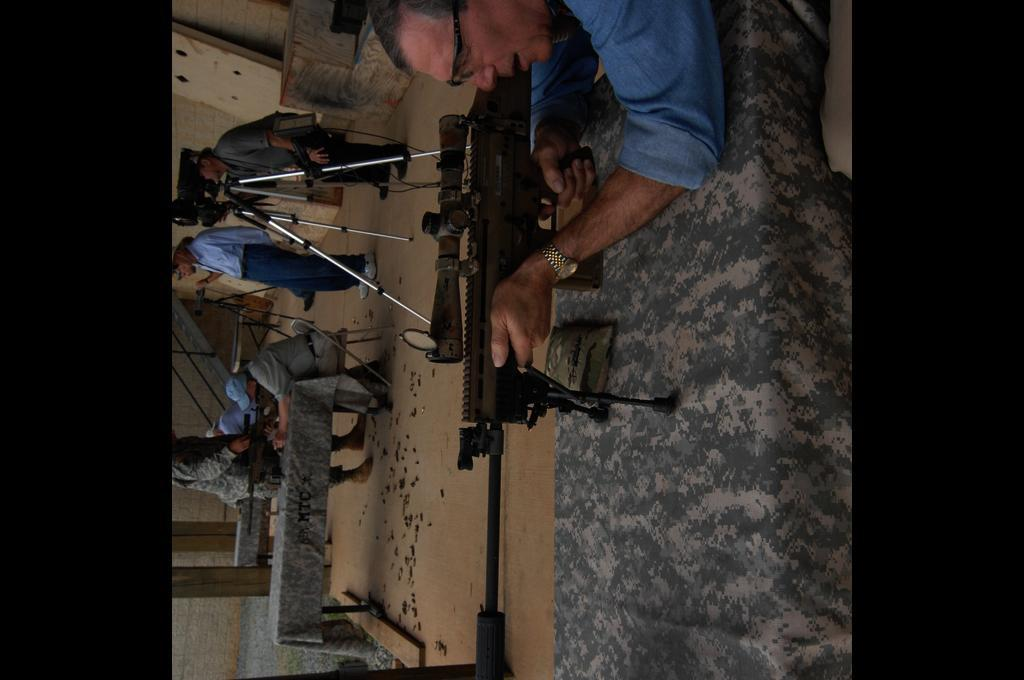gun: (405, 75, 674, 680)
